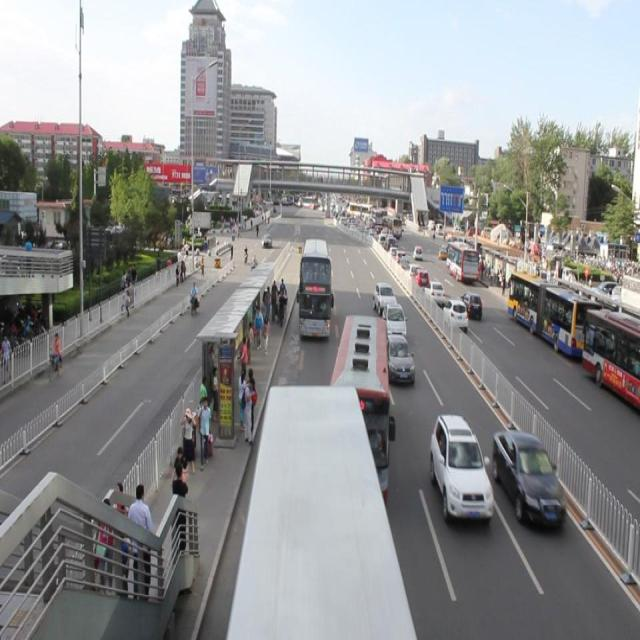car: (426, 411, 495, 532), (489, 428, 568, 531), (382, 331, 417, 385), (378, 303, 409, 341), (371, 280, 398, 317)
van: (219, 381, 421, 640), (322, 310, 396, 508), (293, 238, 335, 340)
